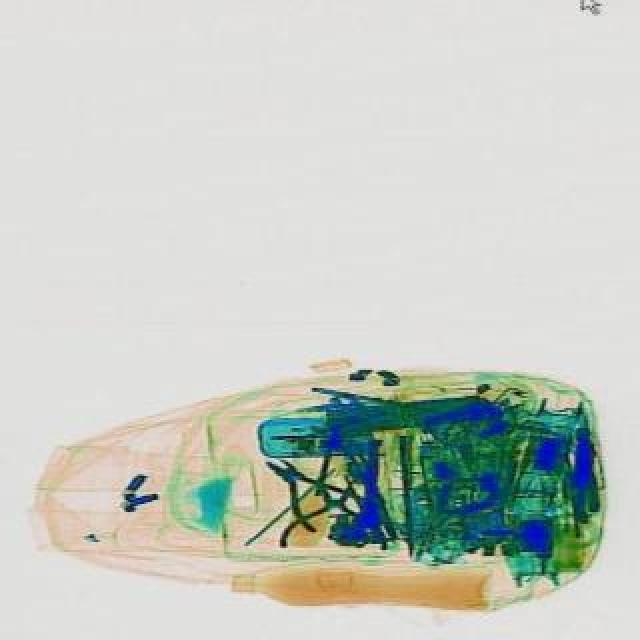wrench: (246, 434, 362, 540), (278, 474, 390, 558), (562, 426, 602, 526)
